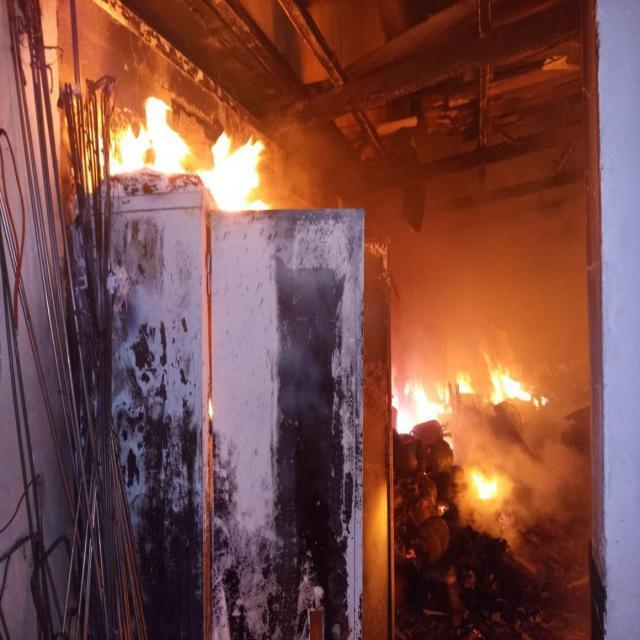Fire: (97, 104, 277, 206), (392, 376, 451, 439), (486, 360, 552, 406), (471, 464, 511, 500), (452, 370, 478, 396)
